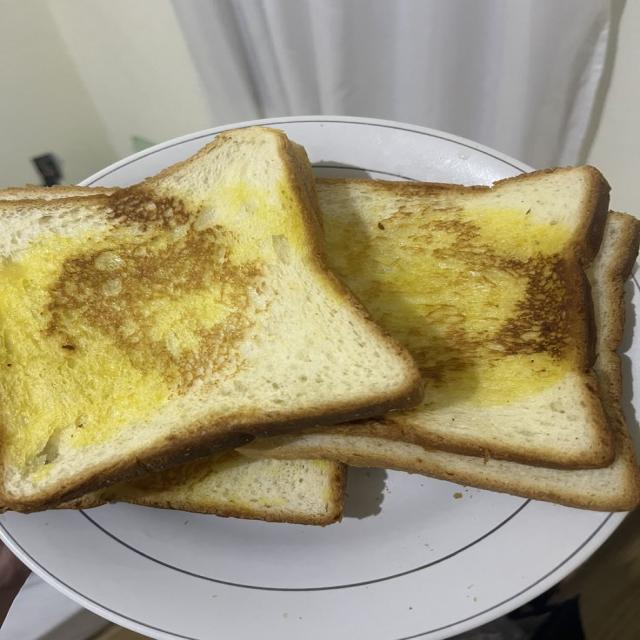toast bread: (0, 128, 422, 511), (245, 166, 639, 510), (246, 418, 635, 510), (57, 451, 345, 525)
